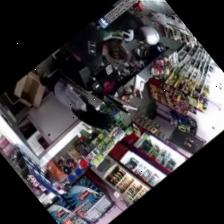person: (35, 68, 111, 128), (64, 24, 129, 65), (105, 10, 159, 44)
